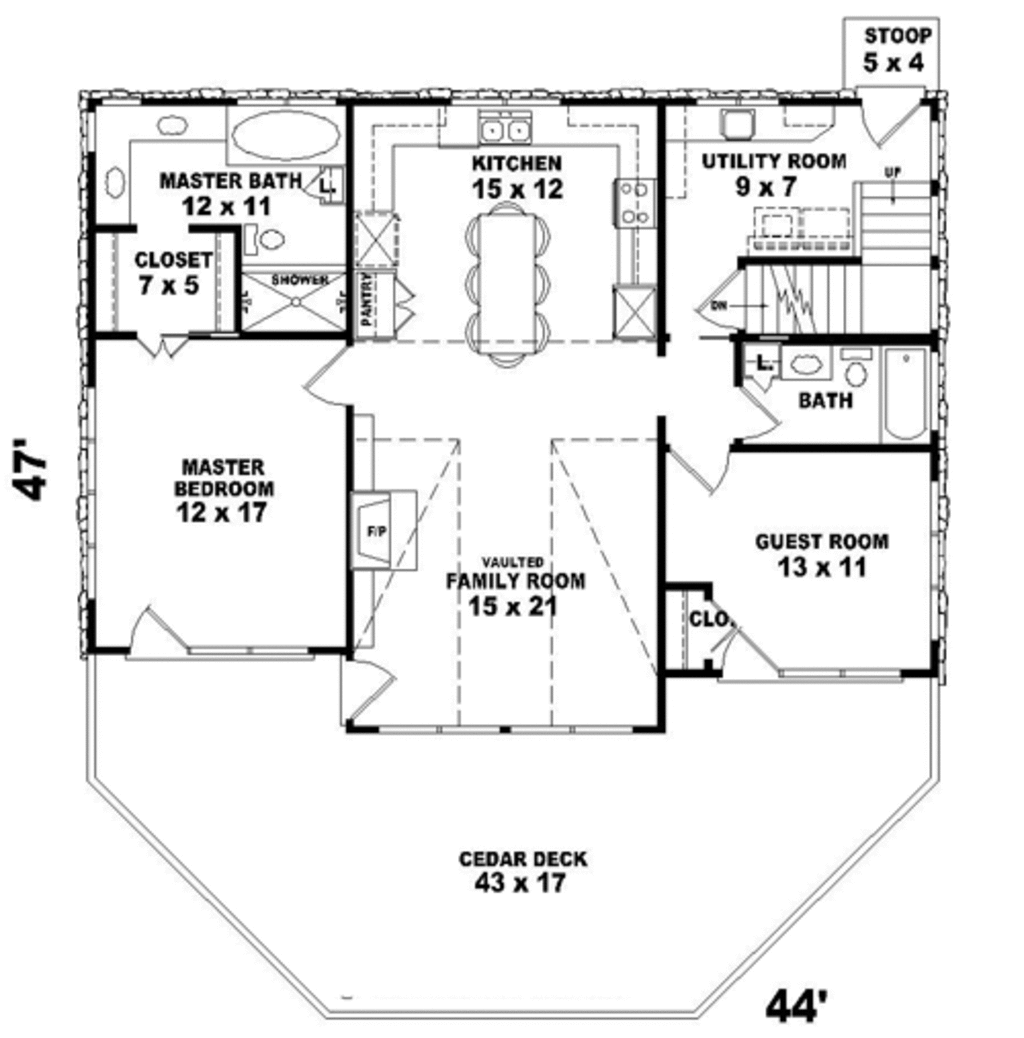door: (852, 72, 942, 153), (647, 420, 733, 495), (708, 600, 778, 686), (323, 654, 402, 729), (123, 599, 189, 667), (725, 380, 784, 449), (699, 266, 750, 330), (305, 337, 347, 409), (129, 319, 200, 359)
kitchen_bar: (457, 188, 562, 374)
large_sink: (228, 208, 296, 262), (826, 345, 876, 396)
small_sink: (141, 106, 199, 143), (786, 343, 825, 382), (96, 162, 125, 209)
stairs: (847, 174, 944, 328), (752, 258, 946, 335)
tub: (223, 93, 349, 170), (871, 348, 944, 454)
twin_sink: (463, 90, 547, 149)
window: (386, 723, 633, 736), (781, 665, 894, 686)
